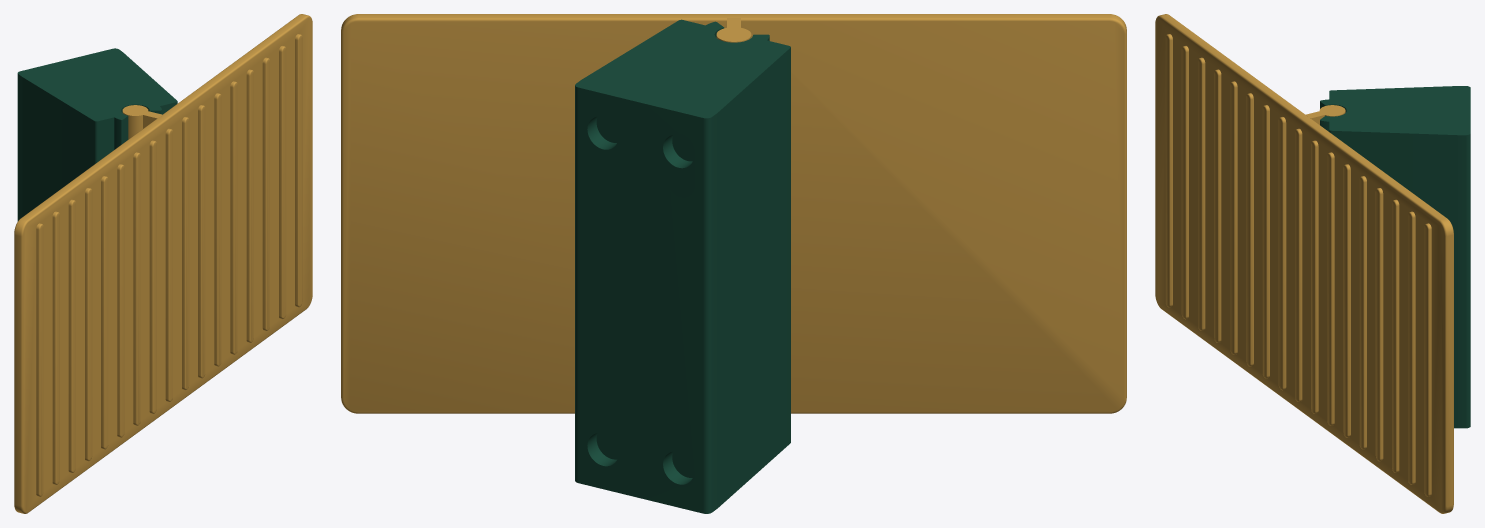
3 views of the same model, side by side, from view 1: azimuth 30°, elevation 25°; view 2: azimuth 150°, elevation 25°; view 3: azimuth 270°, elevation 25° (orthographic). The views are drawn at different scales.
Visible parts, largest first — view 1: SS01_Gold, SS01_PineGreen; view 2: SS01_Gold, SS01_PineGreen; view 3: SS01_Gold, SS01_PineGreen.
Boxes of the visible parts, x1,y1,x2,y2 form: SS01_Gold: (14,14,312,513); SS01_PineGreen: (17,48,177,221); SS01_Gold: (341,14,1126,413); SS01_PineGreen: (575,19,790,513); SS01_Gold: (1155,14,1453,513); SS01_PineGreen: (1320,86,1470,428).
Bounding box in the file's own units: 157 × 100 × 97.53.
